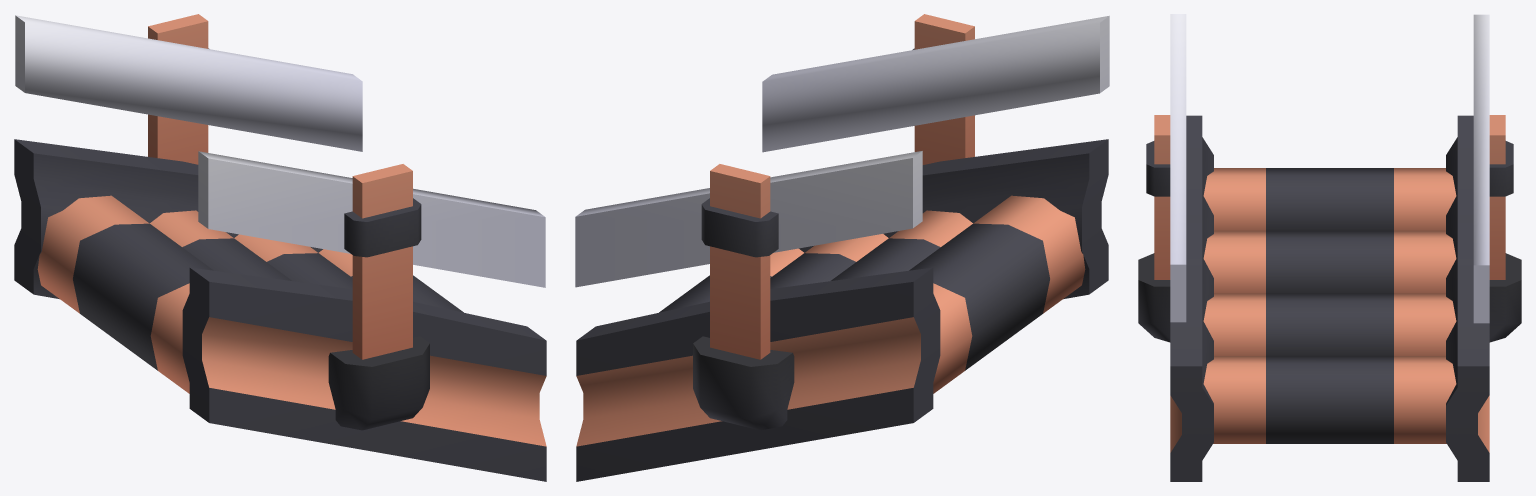
The model's file is conveyor-bars-stripe-fence-slope.obj.
3 renders of one model, left to right at view 1: azimuth 30°, elevation 25°; view 2: azimuth 150°, elevation 25°; view 3: azimuth 270°, elevation 25°, orthographic. The views are drawn at different scales.
Parts seen in each view (by area): view 1: conveyor-bars-stripe-fence-slope; view 2: conveyor-bars-stripe-fence-slope; view 3: conveyor-bars-stripe-fence-slope.
Boxes of the visible parts, left/top/right/bottom form: conveyor-bars-stripe-fence-slope: left=14, top=14, right=546, bottom=481; conveyor-bars-stripe-fence-slope: left=575, top=14, right=1109, bottom=481; conveyor-bars-stripe-fence-slope: left=1138, top=14, right=1521, bottom=481.
Size of the model in its own units: 1.01 by 1.15 by 1.2.
